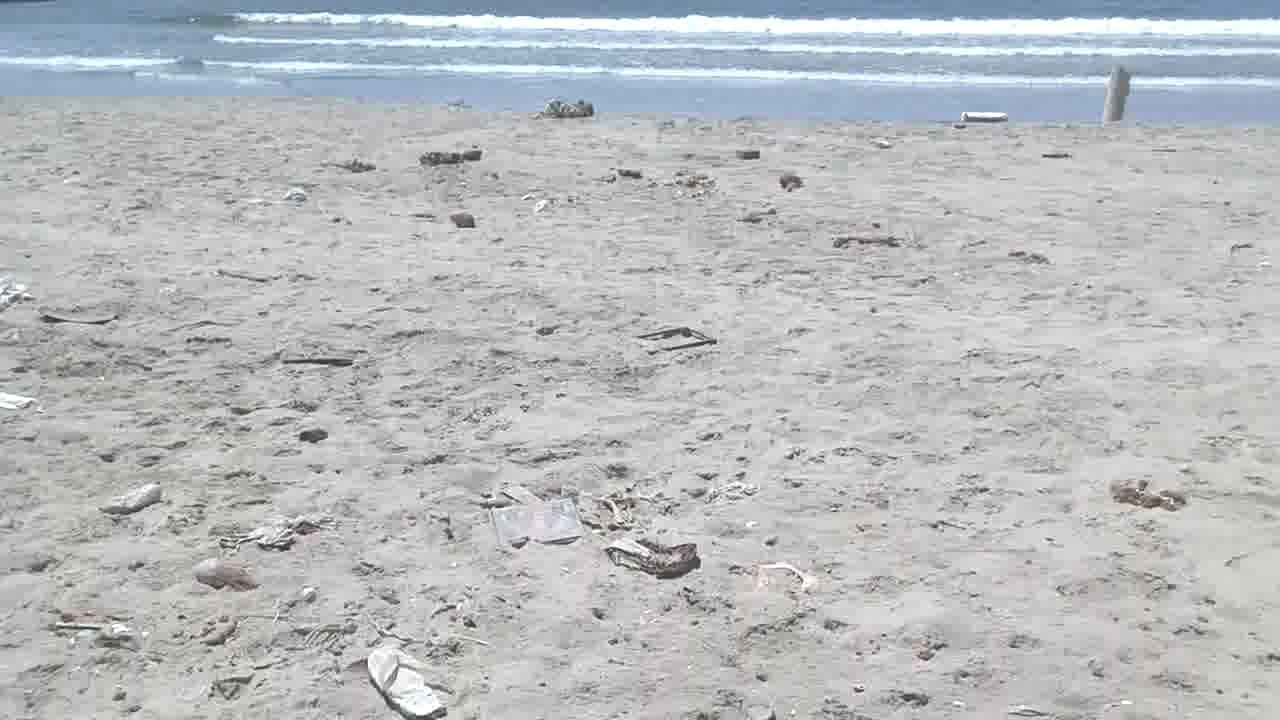large collection of objects: (629, 326, 717, 357)
obj: (362, 646, 452, 716), (213, 514, 318, 552), (604, 538, 700, 578), (192, 558, 260, 596), (1110, 480, 1188, 512), (95, 478, 158, 516), (1102, 64, 1132, 128), (35, 312, 124, 328), (242, 185, 312, 203), (833, 231, 905, 248), (282, 352, 352, 368), (1, 393, 35, 421), (440, 210, 482, 229), (1, 282, 24, 313), (778, 171, 798, 188), (734, 149, 764, 158)
sand/background: (0, 0, 1279, 138)
